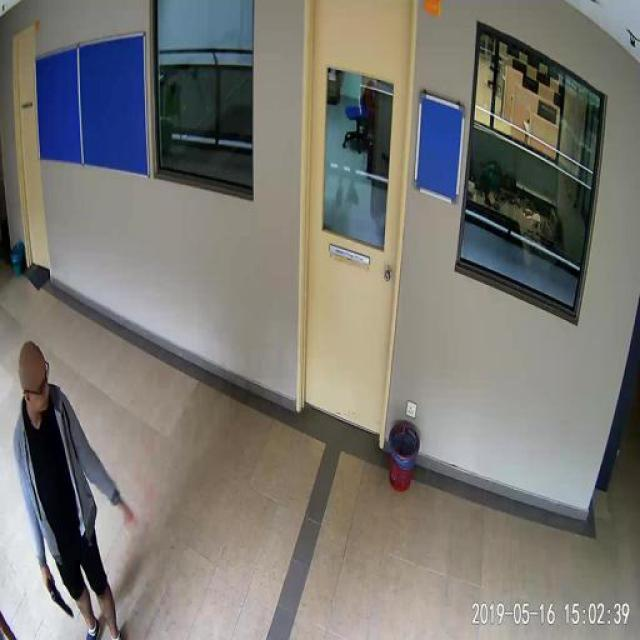weapon: (42, 565, 74, 621)
